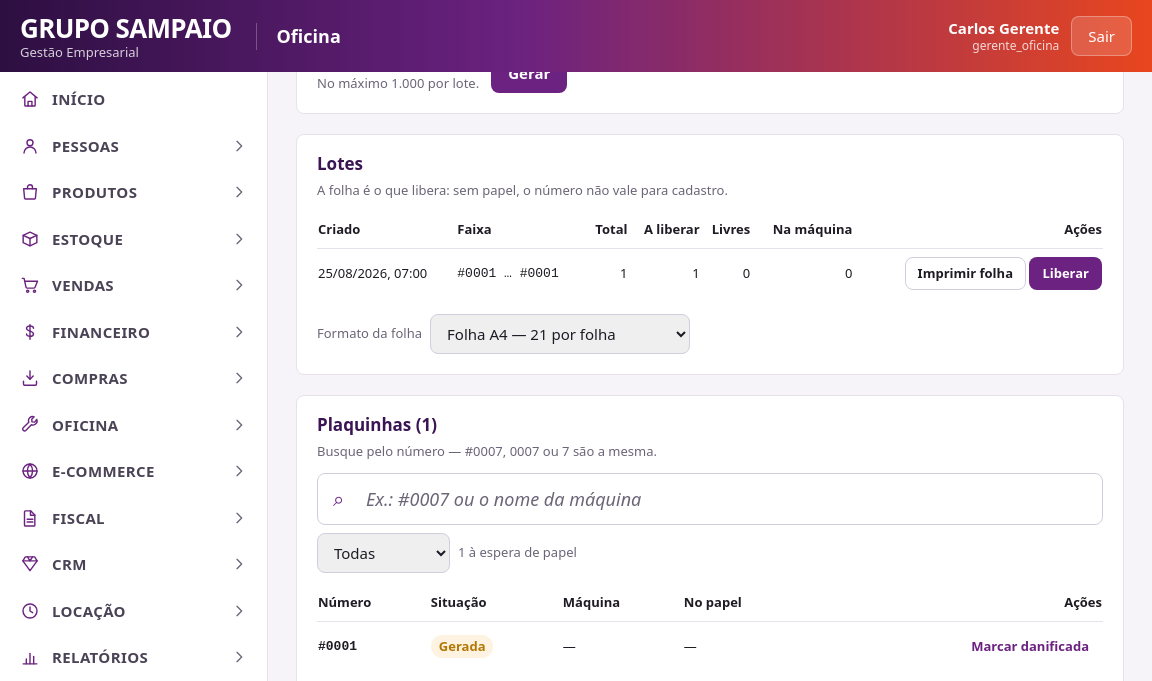
Test: o ciclo do adesivo, na tela › marcar danificada exige dizer o que aconteceu, e o motivo aparece
(page scrolled)
Expected: the text "#0001" is shown, [317, 621, 430, 671]
Step 1. Click the button with aria-label "Marcar #0001 como danificada" → [1030, 646], box [958, 630, 1102, 663]
(page scrolled)
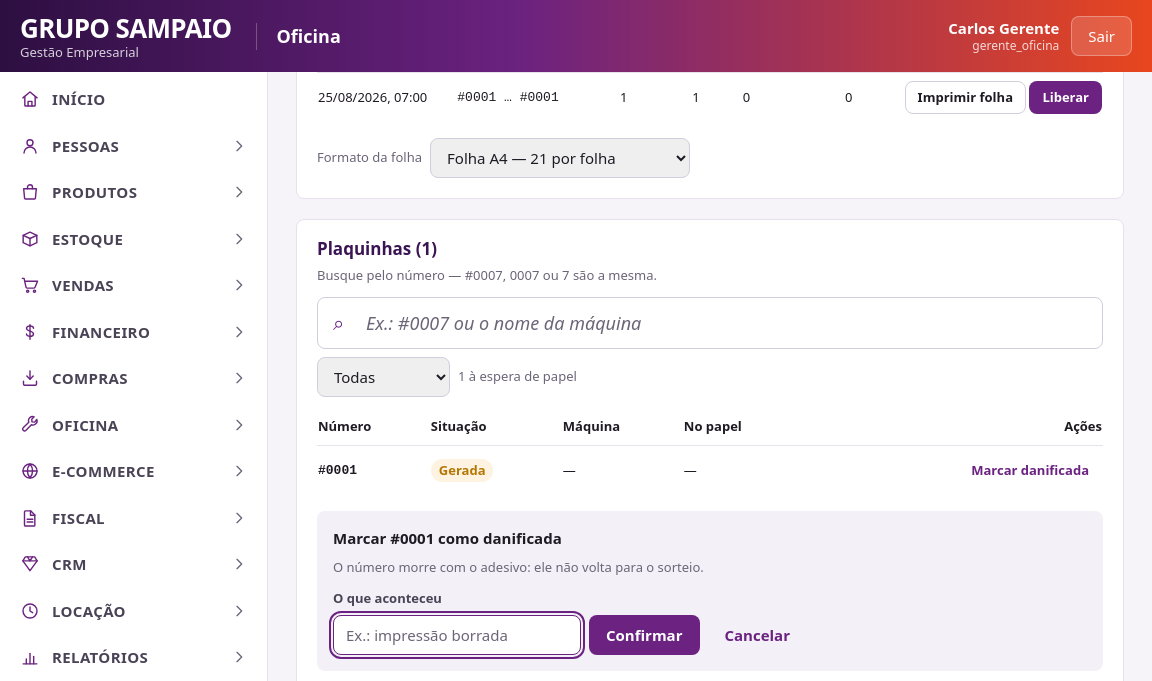
Step 2. Type "Impressão borrada" into the field labelled "O que aconteceu" → [457, 635], box [333, 614, 581, 655]
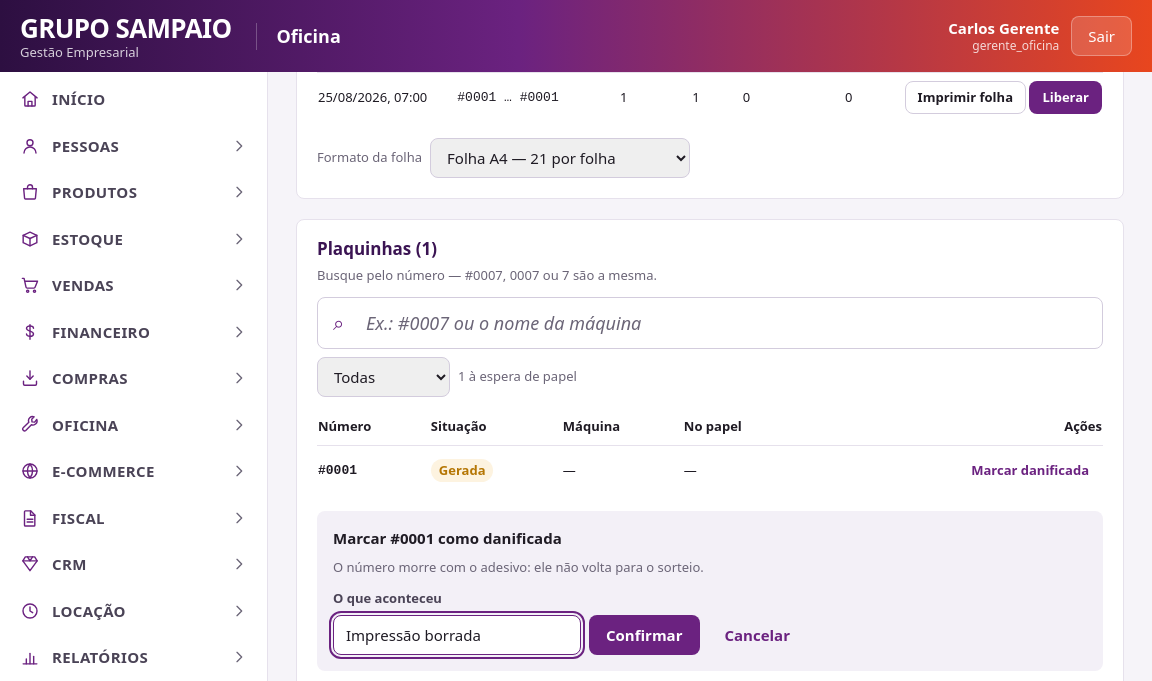
Step 3. Click the button "Confirmar" → [644, 635], box [589, 614, 700, 655]
(page scrolled)
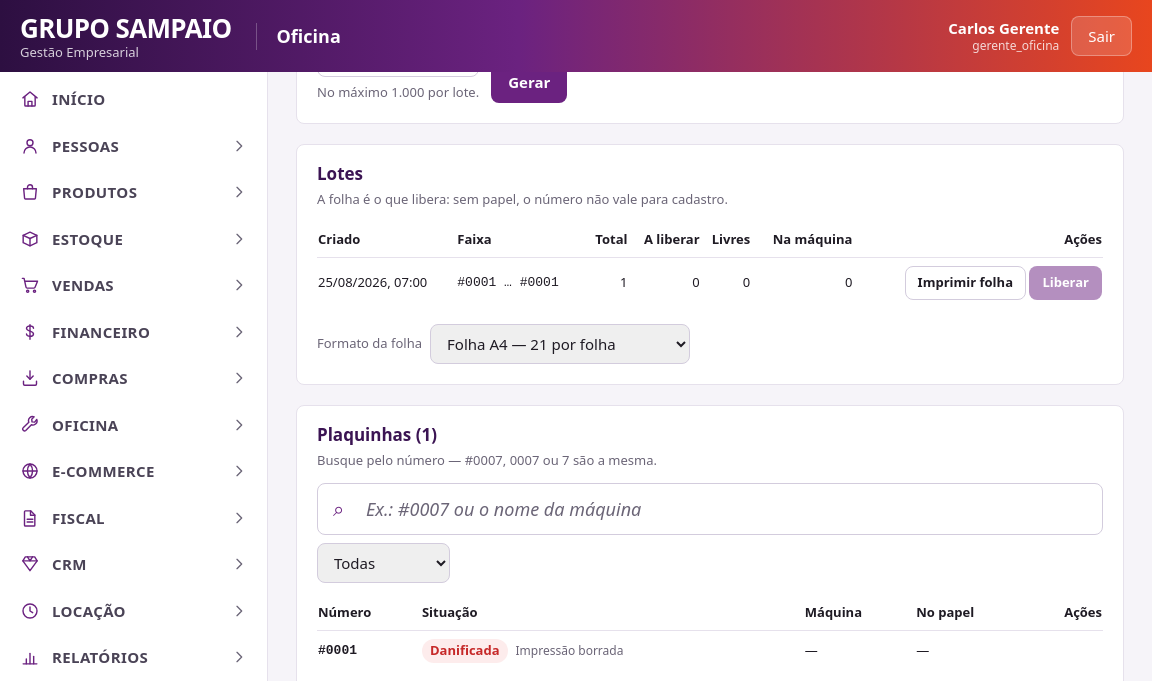
Expected: the text "Danificada" is shown, [422, 639, 508, 662]
Expected: the text "Impressão borrada" is shown, [516, 642, 623, 659]
